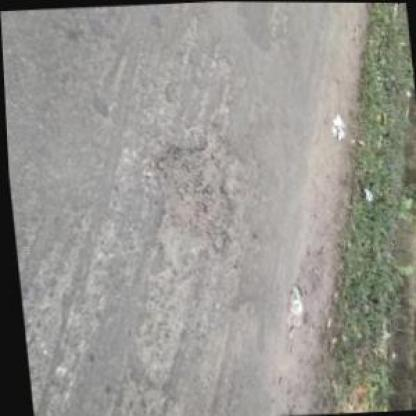pothole: (143, 121, 238, 268)
